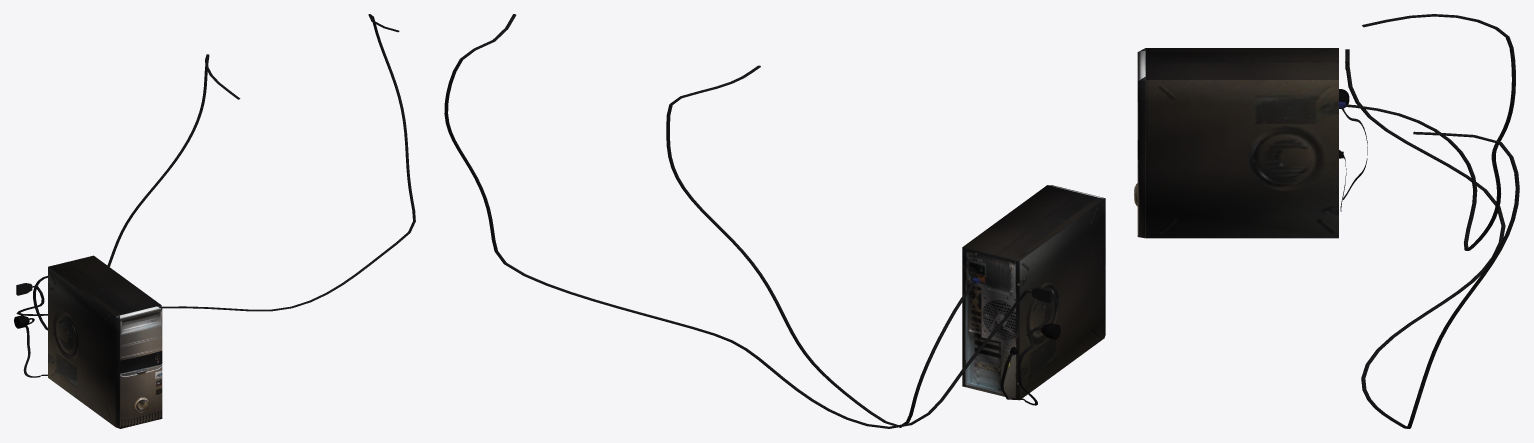
Rendered from ScrivaniaCiroCaviePC.gltf.
The picture shows the model from 3 angles, left to right: view 1: azimuth 30°, elevation 25°; view 2: azimuth 150°, elevation 25°; view 3: azimuth 270°, elevation 25°; orthographic projection. The views are drawn at different scales.
Visible parts, largest first — view 1: Ciro Pc Case, Ciro Telefono Cavo, Ciro Monitor Cavo; view 2: Ciro Pc Case, Ciro Telefono Cavo, Ciro Monitor Cavo; view 3: Ciro Pc Case, Ciro Telefono Cavo, Ciro Monitor Cavo.
Boxes of the visible parts, x1,y1,x2,y2 form: Ciro Pc Case: [48, 255, 162, 428]; Ciro Telefono Cavo: [16, 14, 415, 315]; Ciro Monitor Cavo: [33, 54, 240, 330]; Ciro Pc Case: [962, 185, 1105, 400]; Ciro Telefono Cavo: [444, 14, 1031, 428]; Ciro Monitor Cavo: [666, 65, 975, 427]; Ciro Pc Case: [1134, 48, 1338, 238]; Ciro Telefono Cavo: [1345, 62, 1519, 428]; Ciro Monitor Cavo: [1345, 14, 1515, 250].
Size of the model in its own units: 1.47 by 0.77 by 0.7955.
Materials: 4 (2 with a texture image).
